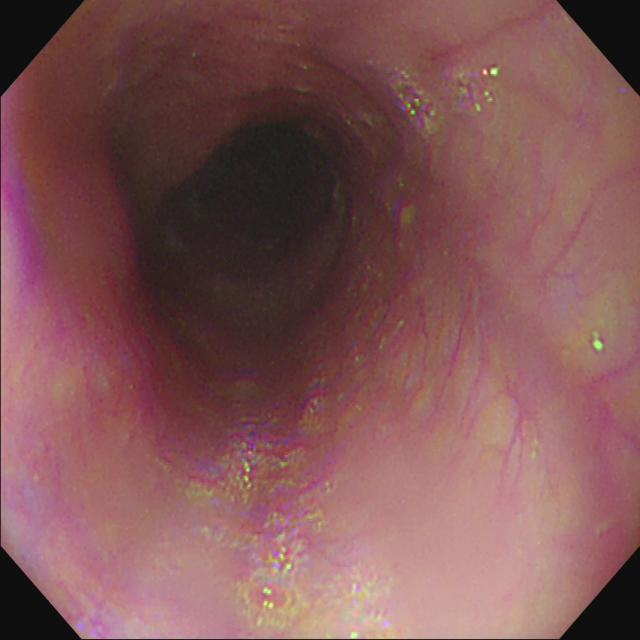E: (161, 125, 337, 256)
